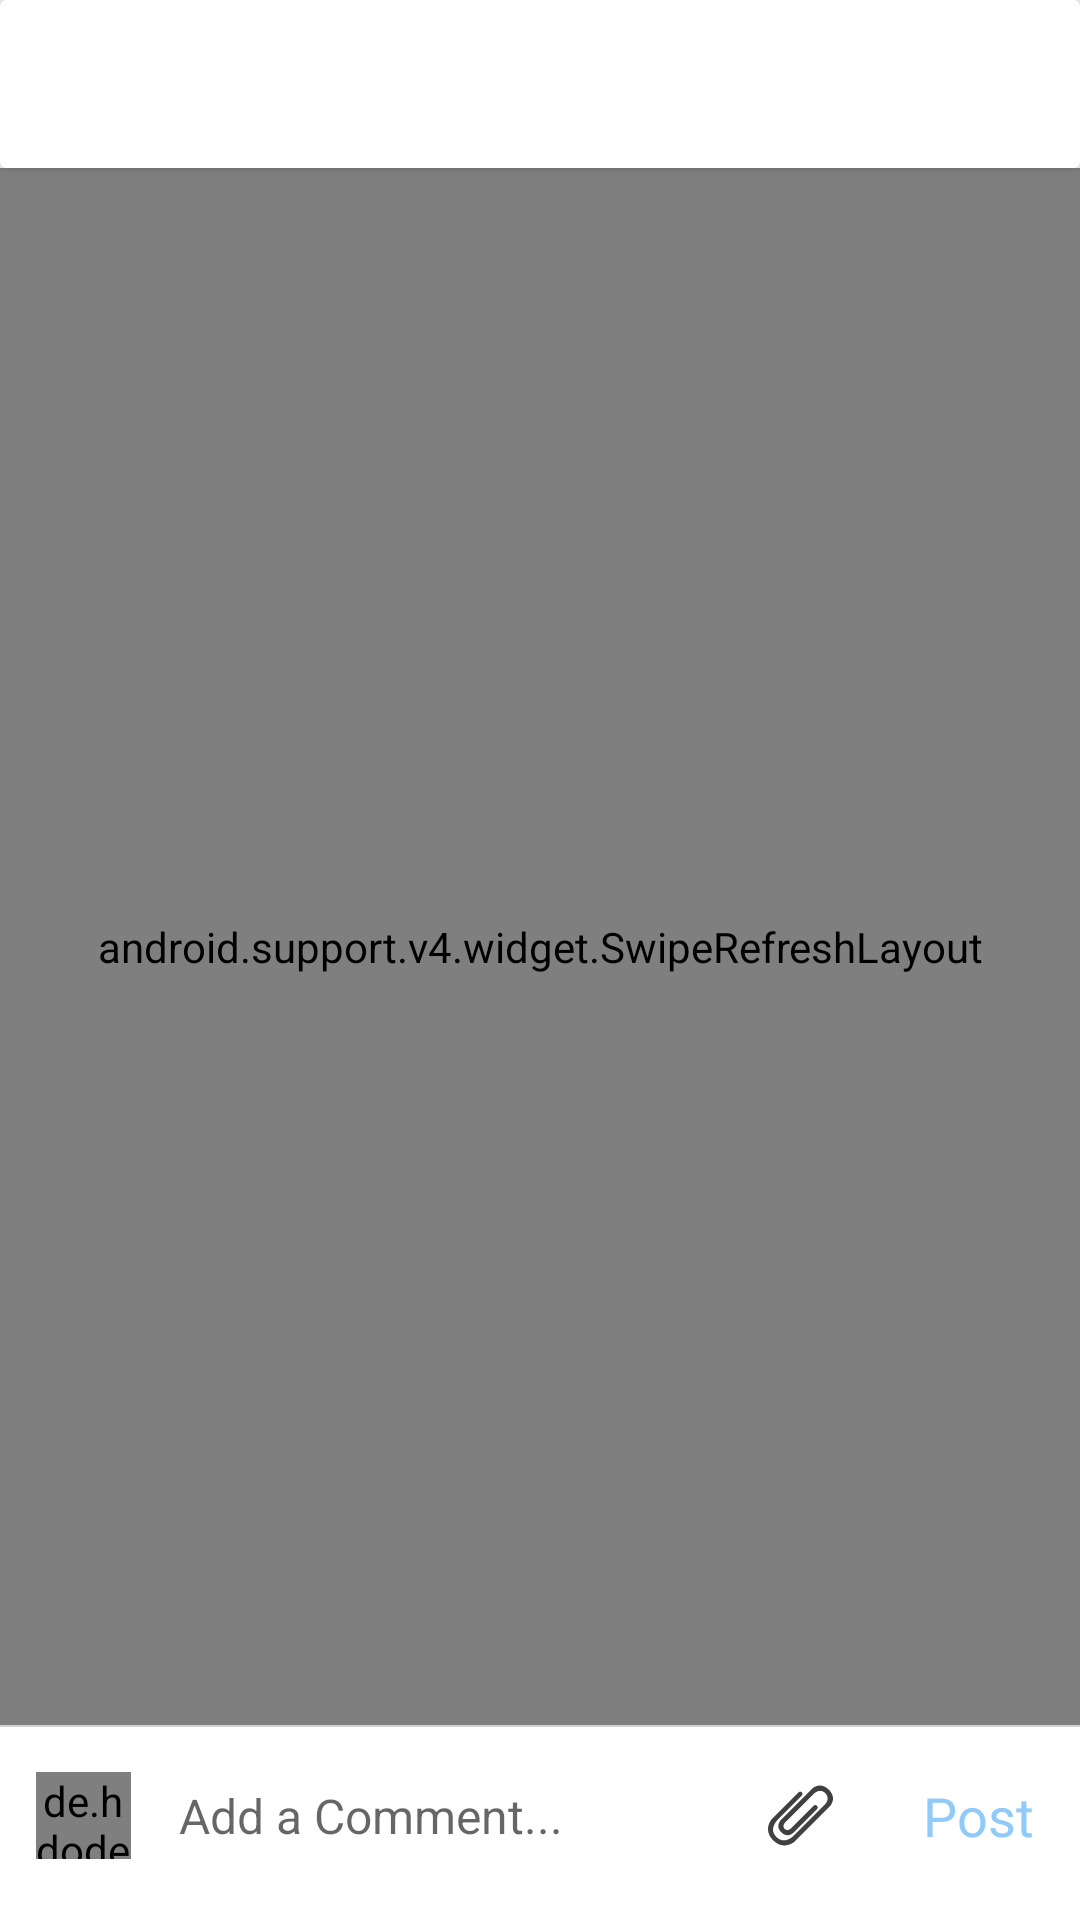

Named icons in this screenshot (1080×1920) and their bounding boxes, (x1, y1, x2, y2):
paper clip: (768, 1785, 833, 1846)
